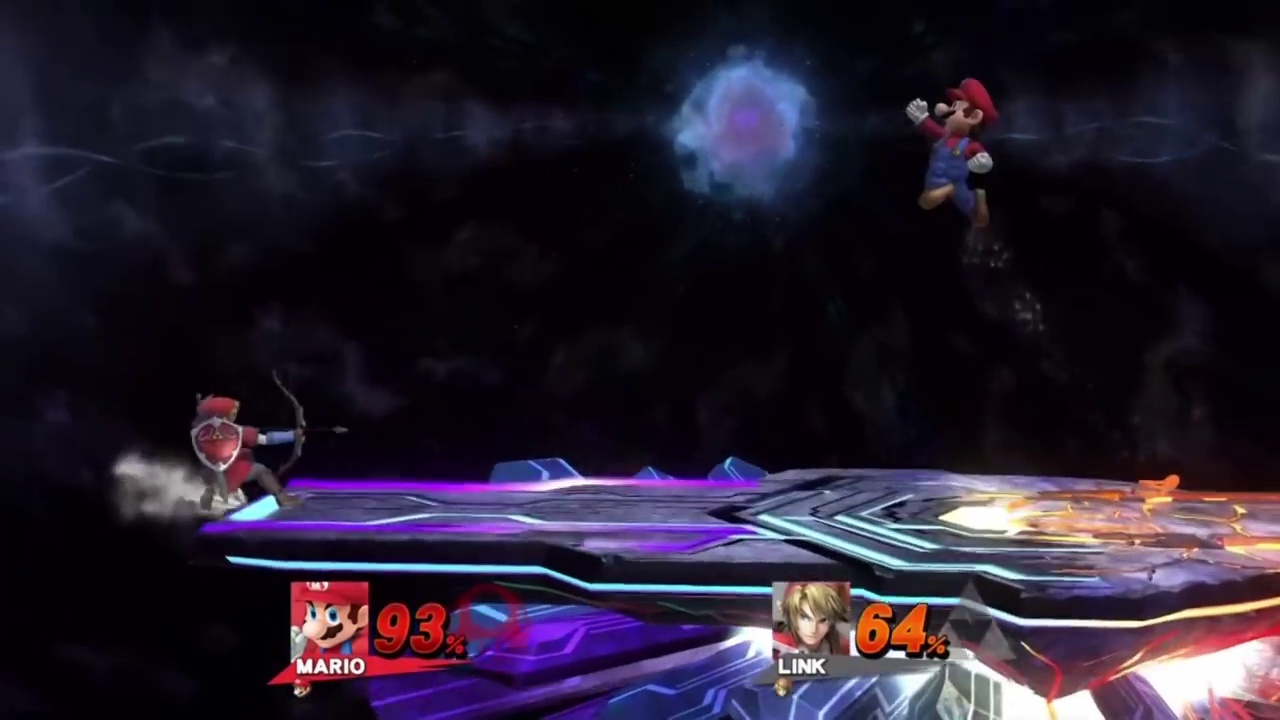Mario: (901, 79, 998, 226)
